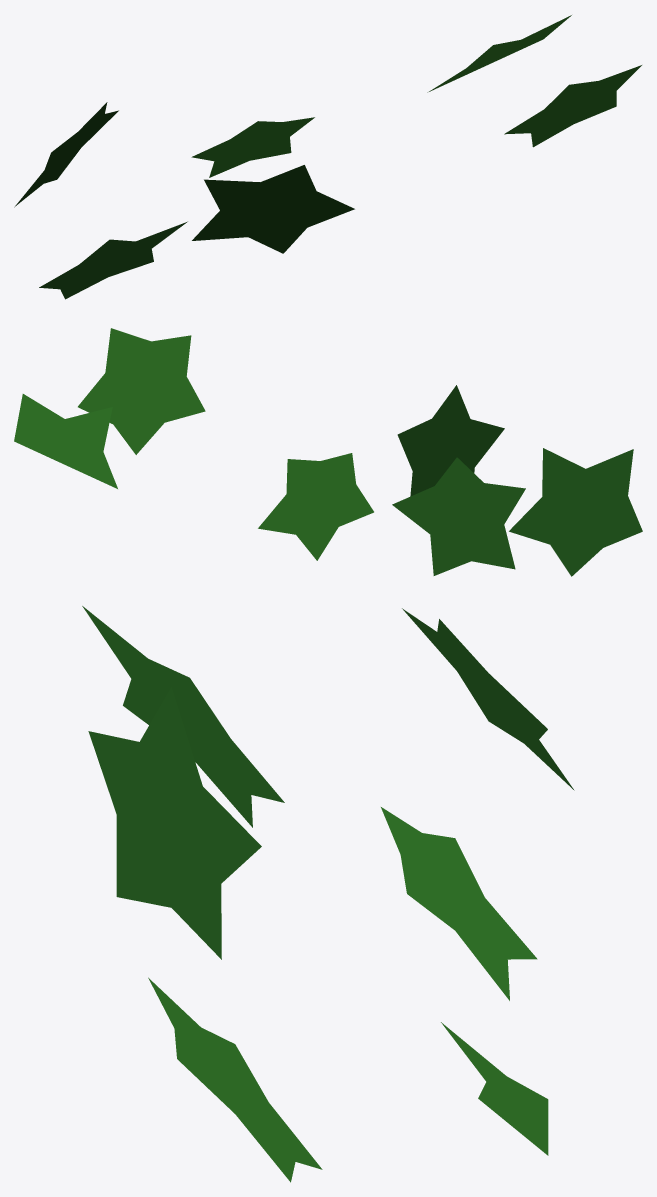
The picture shows the model from 3 angles, top to bottom: view 1: azimuth 30°, elevation 25°; view 2: azimuth 150°, elevation 25°; view 3: azimuth 270°, elevation 25°; orthographic projection. The views are drawn at different scales.
Parts seen in each view (by area): view 1: r6c1_l11; view 2: r6c1_l11; view 3: r6c1_l11.
Boxes of the visible parts, x1,y1,x2,y2 form: r6c1_l11: (14, 15, 641, 299); r6c1_l11: (14, 328, 642, 576); r6c1_l11: (82, 606, 574, 1182).
Bounding box in the file's own units: 1.58 × 0.3566 × 0.6161.
